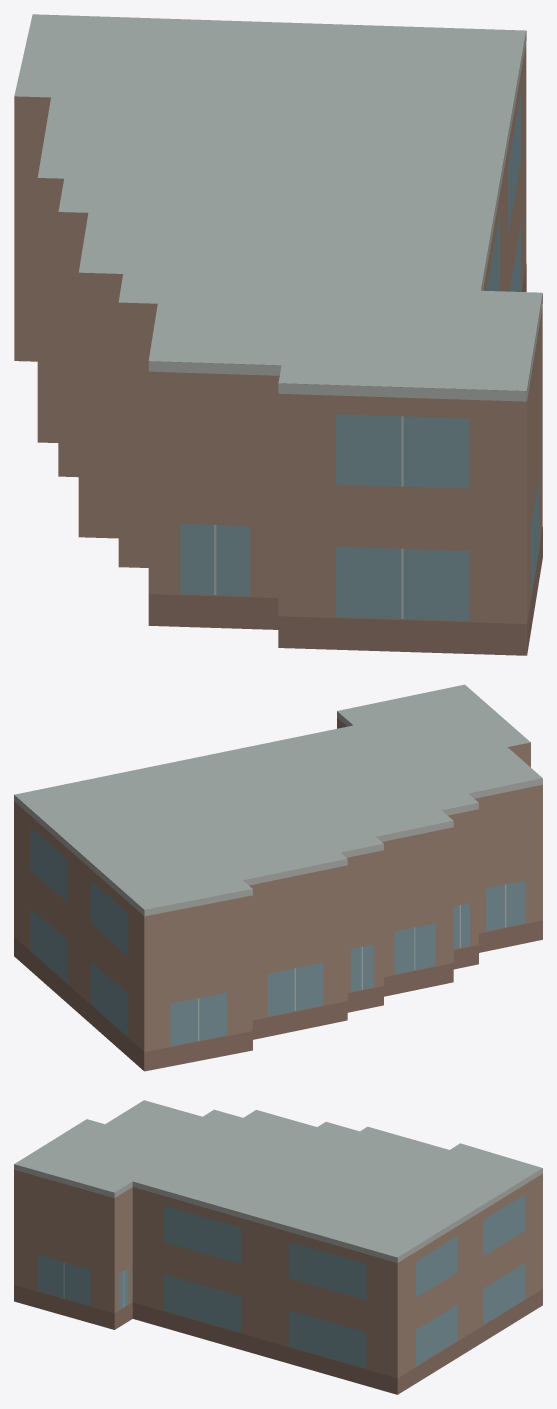
The model's file is survey-upis-32703967.glb.
The picture shows the model from 3 angles, top to bottom: view 1: azimuth 30°, elevation 25°; view 2: azimuth 150°, elevation 25°; view 3: azimuth 270°, elevation 25°; orthographic projection. The views are drawn at different scales.
Parts seen in each view (by area): view 1: survey-upis-32703967.tmp; view 2: survey-upis-32703967.tmp; view 3: survey-upis-32703967.tmp.
Part boxes in pixels (bbox=[...]): survey-upis-32703967.tmp: bbox=[14, 14, 542, 655]; survey-upis-32703967.tmp: bbox=[14, 684, 542, 1071]; survey-upis-32703967.tmp: bbox=[14, 1100, 542, 1394].
Bounding box in the file's own units: 15.01 × 6.1 × 21.3.
